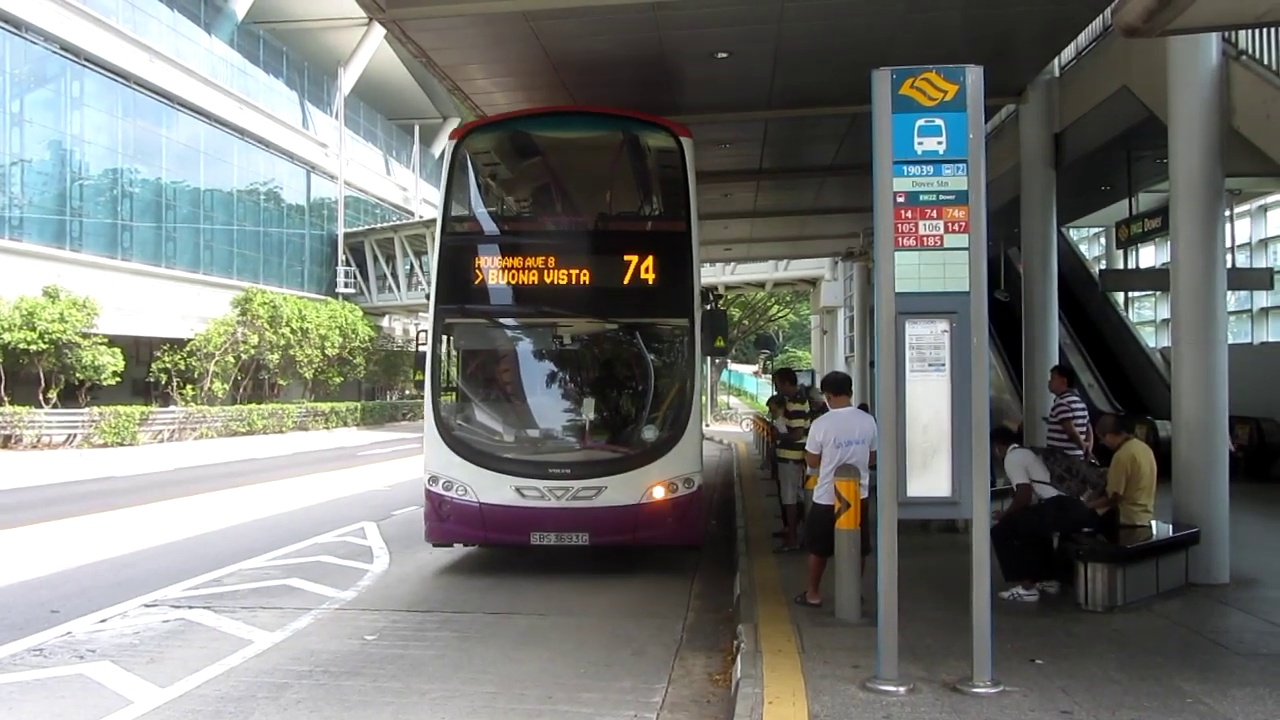bus panel: (469, 250, 663, 293)
